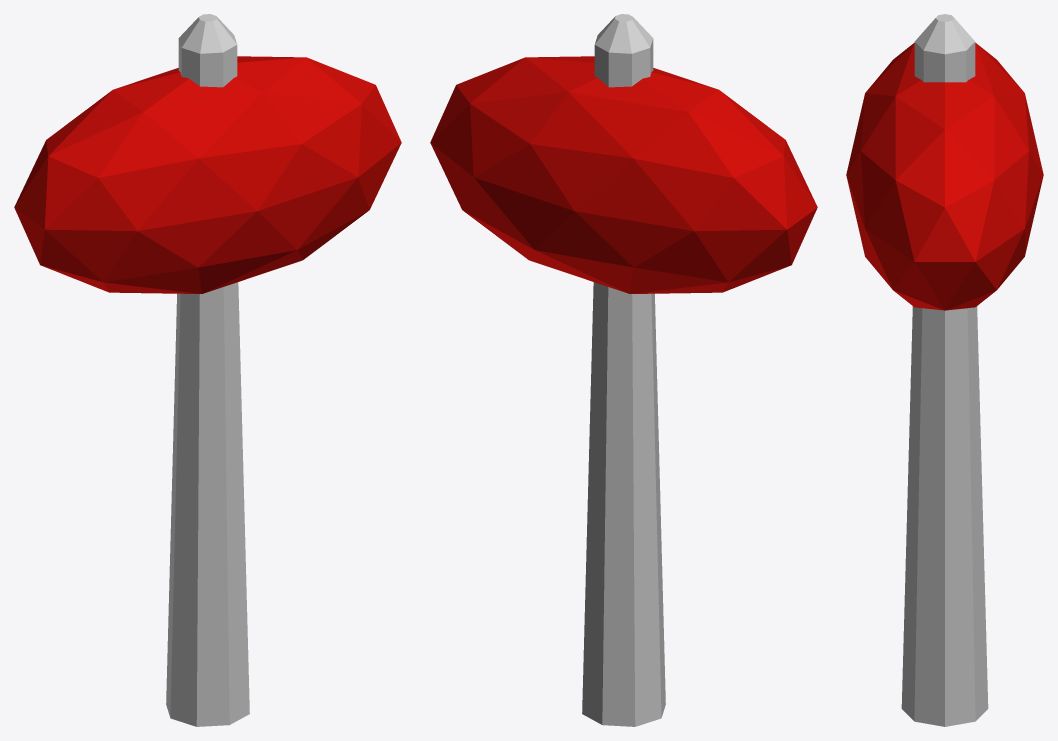
The model's file is GlowGlobe.fbx.
3 renders of one model, left to right at view 1: azimuth 30°, elevation 25°; view 2: azimuth 150°, elevation 25°; view 3: azimuth 270°, elevation 25°, orthographic.
Parts seen in each view (by area): view 1: GlowGlobe; view 2: GlowGlobe; view 3: GlowGlobe.
Part boxes in pixels (bbox=[...]): GlowGlobe: bbox=[14, 14, 401, 726]; GlowGlobe: bbox=[430, 14, 817, 726]; GlowGlobe: bbox=[846, 14, 1043, 726].
Size of the model in its own units: 476 by 880 by 228.
